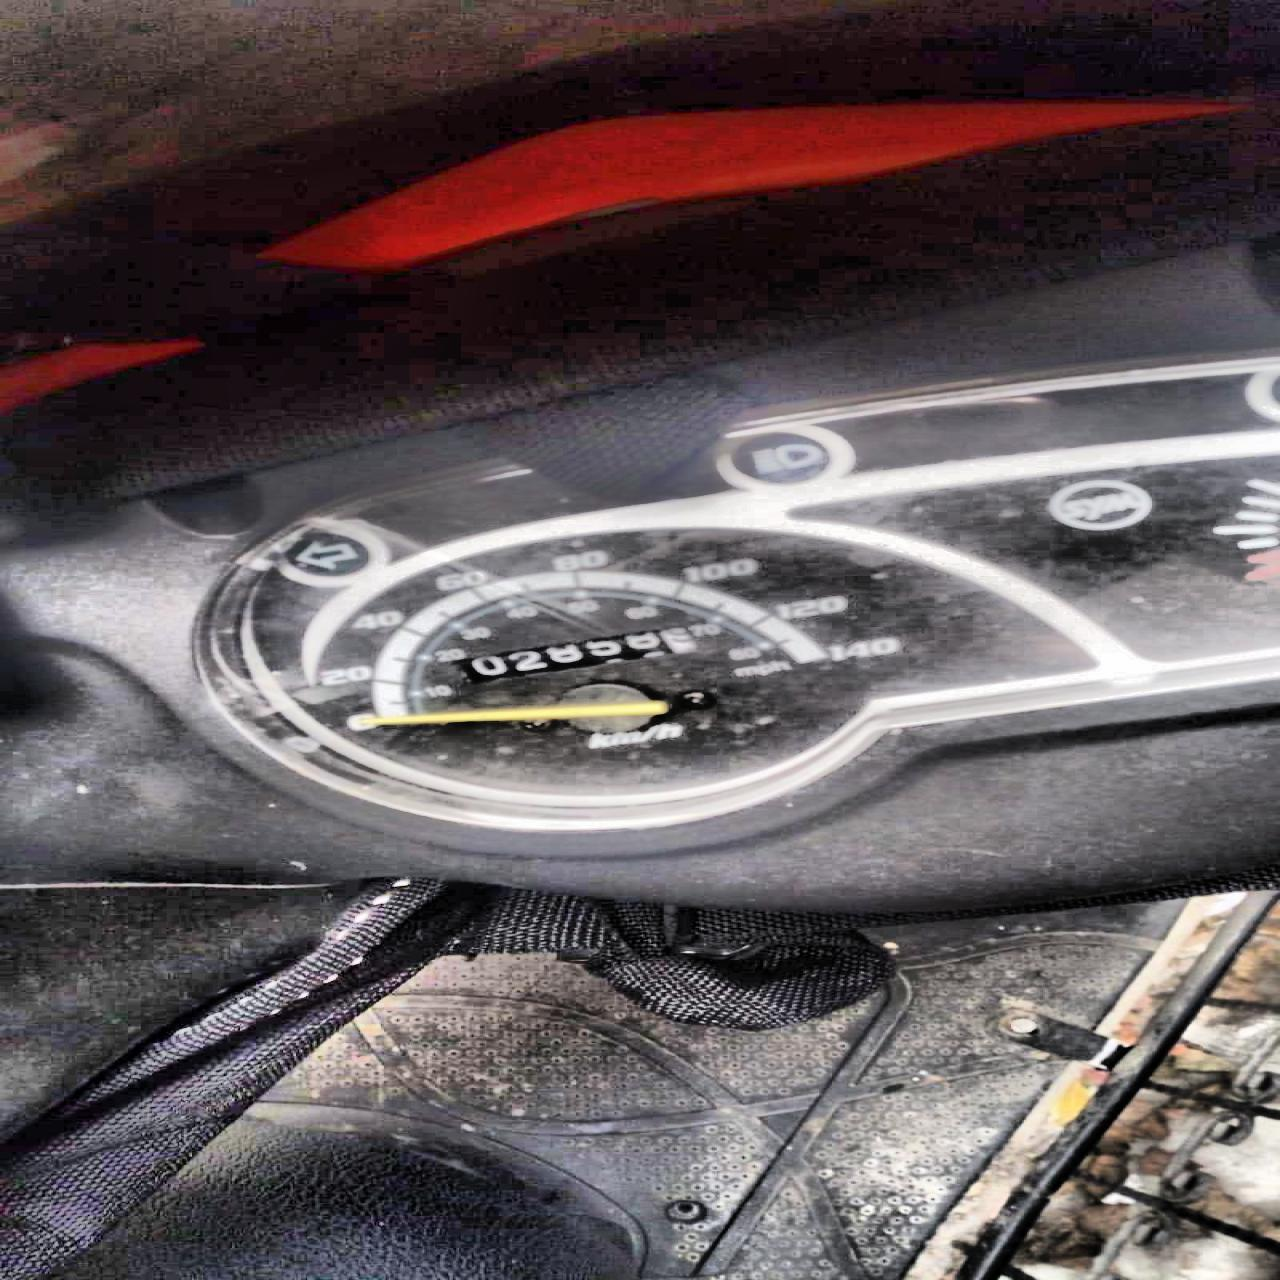0: (469, 656, 505, 674), (474, 626, 490, 636), (450, 648, 464, 658)
2: (508, 651, 546, 670)
3: (458, 628, 475, 639)
5: (587, 638, 621, 655)
8: (544, 644, 584, 662), (624, 629, 659, 648)
9: (663, 626, 694, 642)
odometer: (451, 622, 697, 683)
